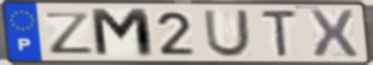2: (154, 10, 199, 57)
M: (87, 7, 158, 60)
T: (258, 8, 300, 59)
U: (202, 8, 252, 59)
X: (306, 7, 361, 60)
Z: (42, 11, 96, 56)
